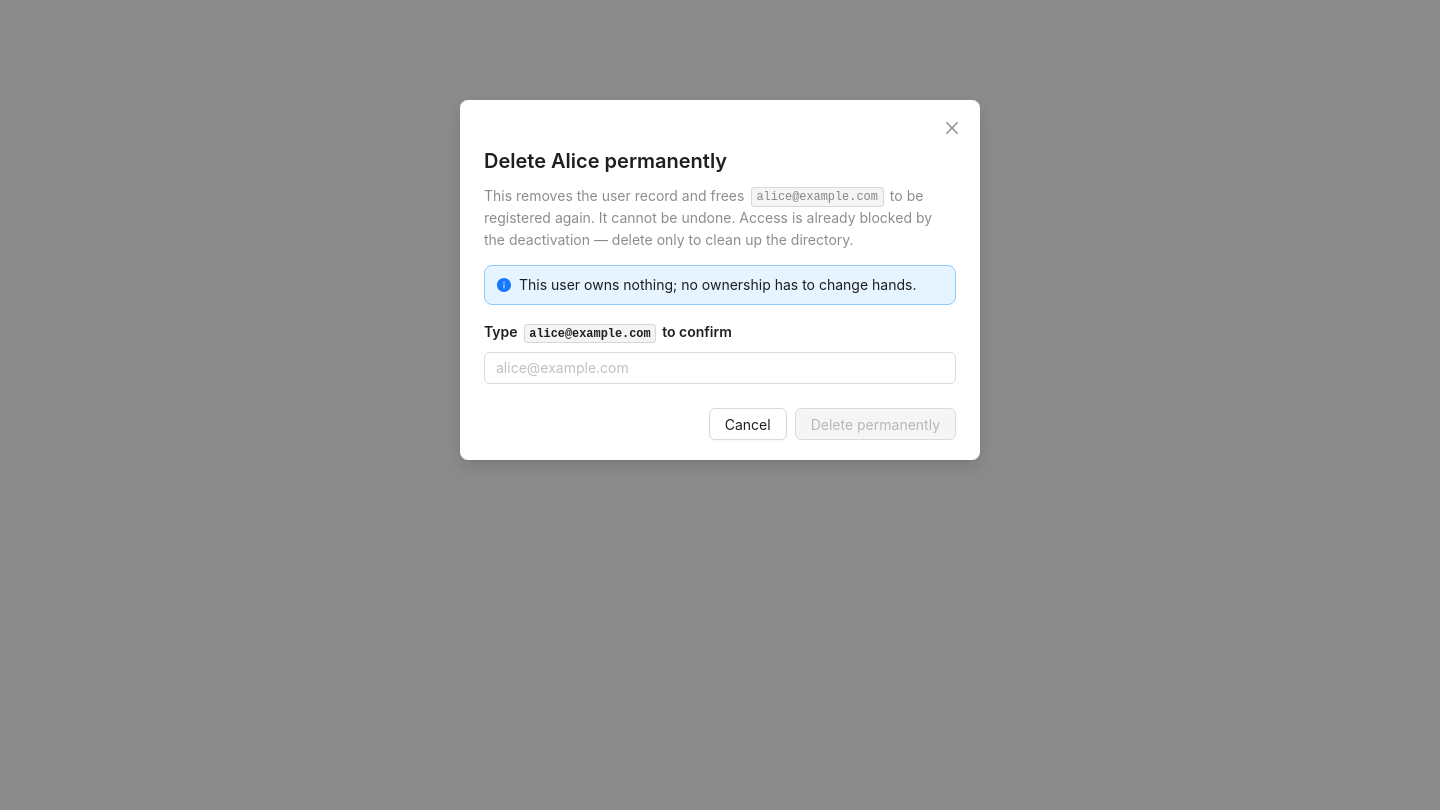
Test: DeleteUserModal › stays disabled until the principal is typed back exactly
expect the button "Delete permanently" is disabled: met, box x1=795 y1=408 x2=956 y2=440
Type "alice@example.co" into the field named "Confirm principal". click: (720, 368)
box: x1=484 y1=352 x2=956 y2=384
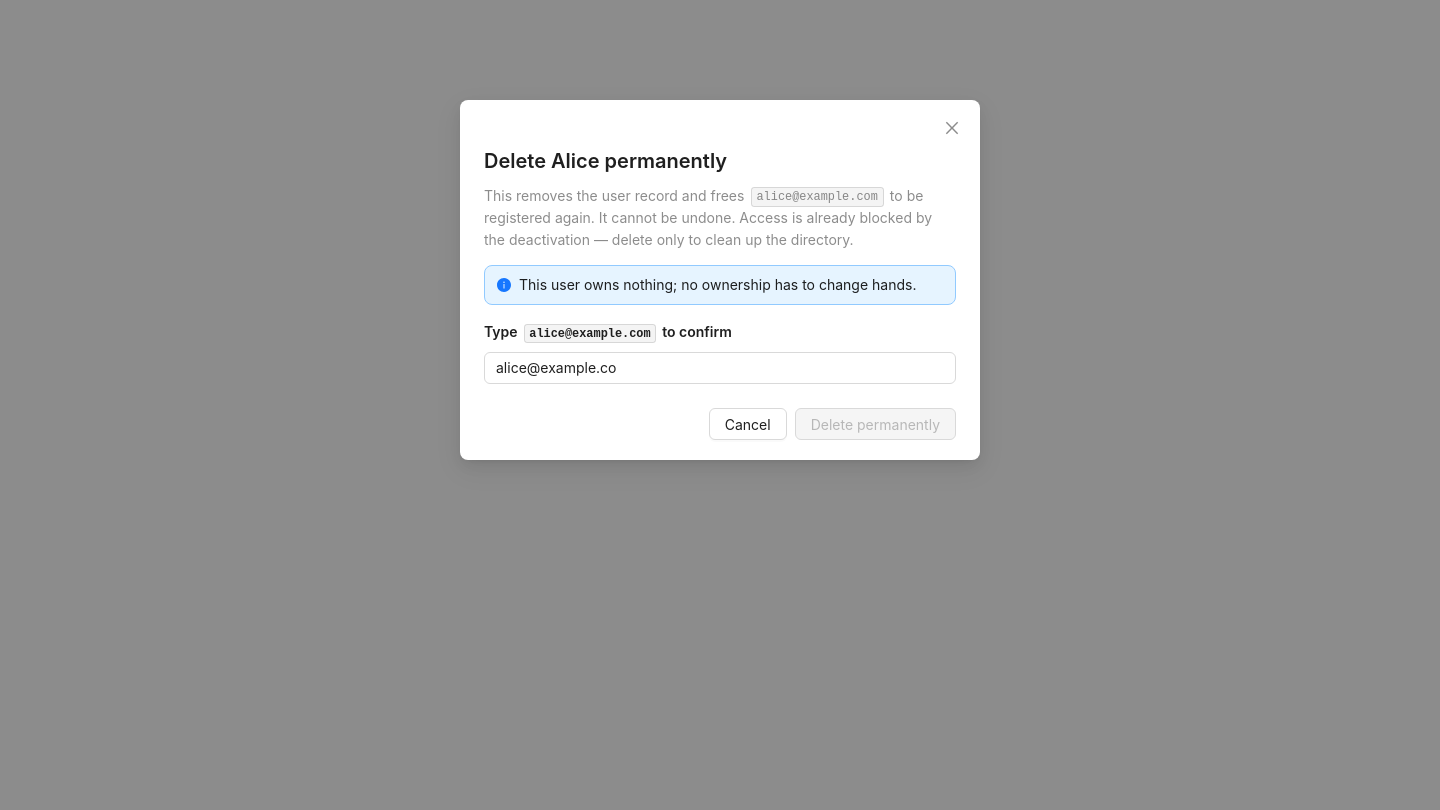
expect the button "Delete permanently" is disabled: met, box x1=795 y1=408 x2=956 y2=440
Replace the text in the field named "Confirm principal" with "alice@example.com". click: (720, 368)
box: x1=484 y1=352 x2=956 y2=384
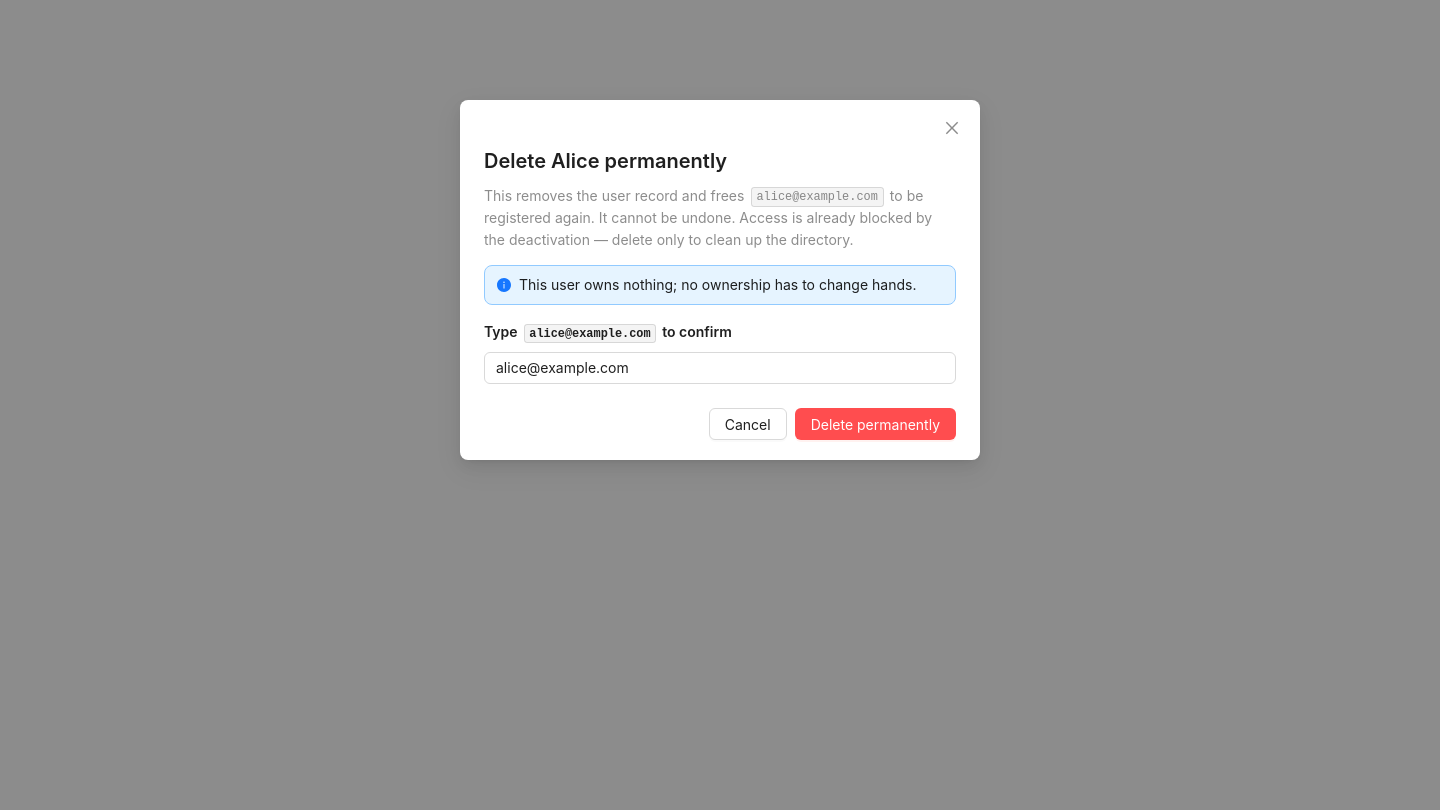
expect the button "Delete permanently" is enabled: met, box x1=795 y1=408 x2=956 y2=440
